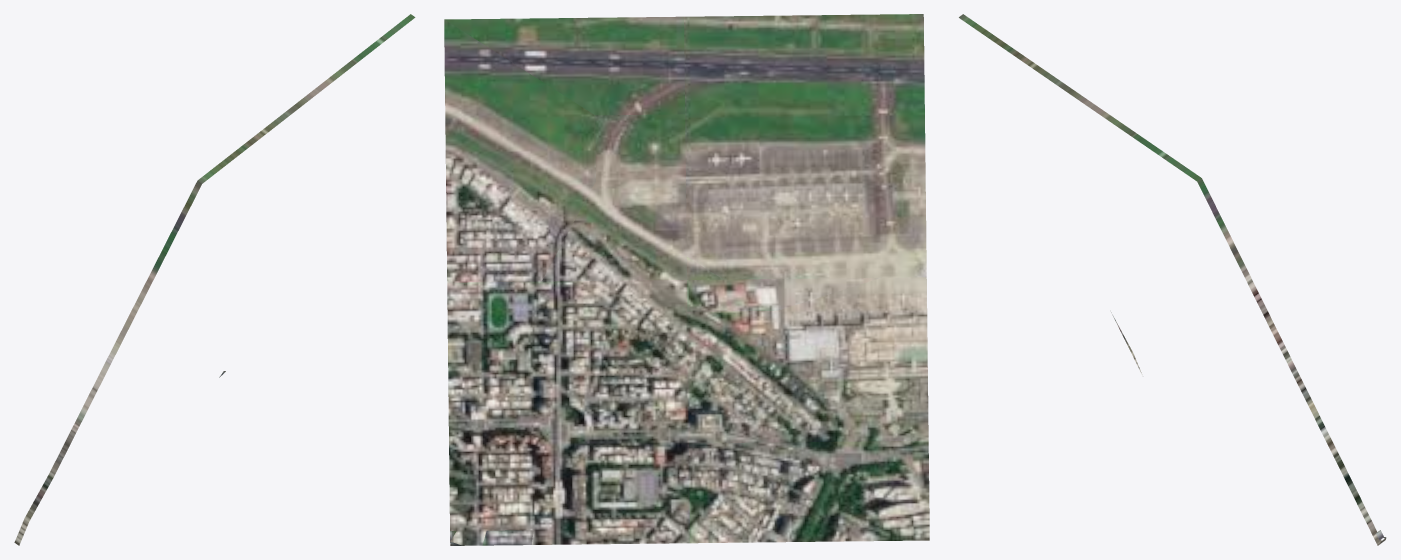
The picture shows the model from 3 angles, left to right: view 1: azimuth 30°, elevation 25°; view 2: azimuth 150°, elevation 25°; view 3: azimuth 270°, elevation 25°; orthographic projection. The views are drawn at different scales.
Bounding box in the file's own units: 1222 × 1110 × 1041.
Materials: 1 (1 with a texture image).
